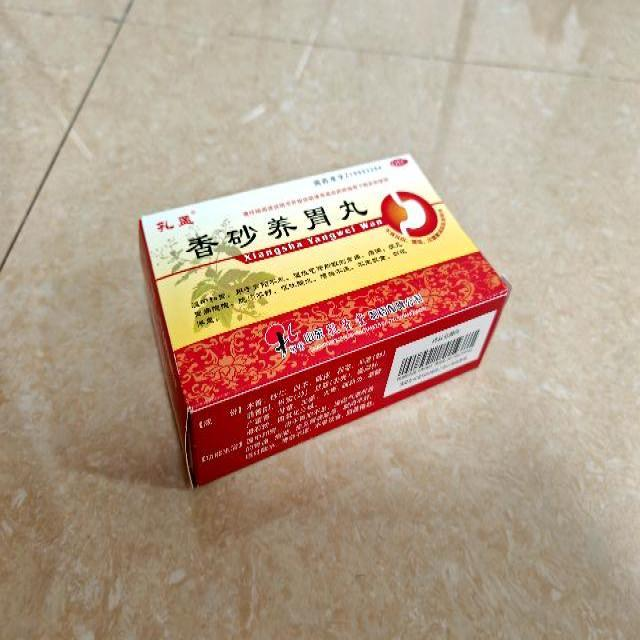box: (140, 152, 510, 486)
